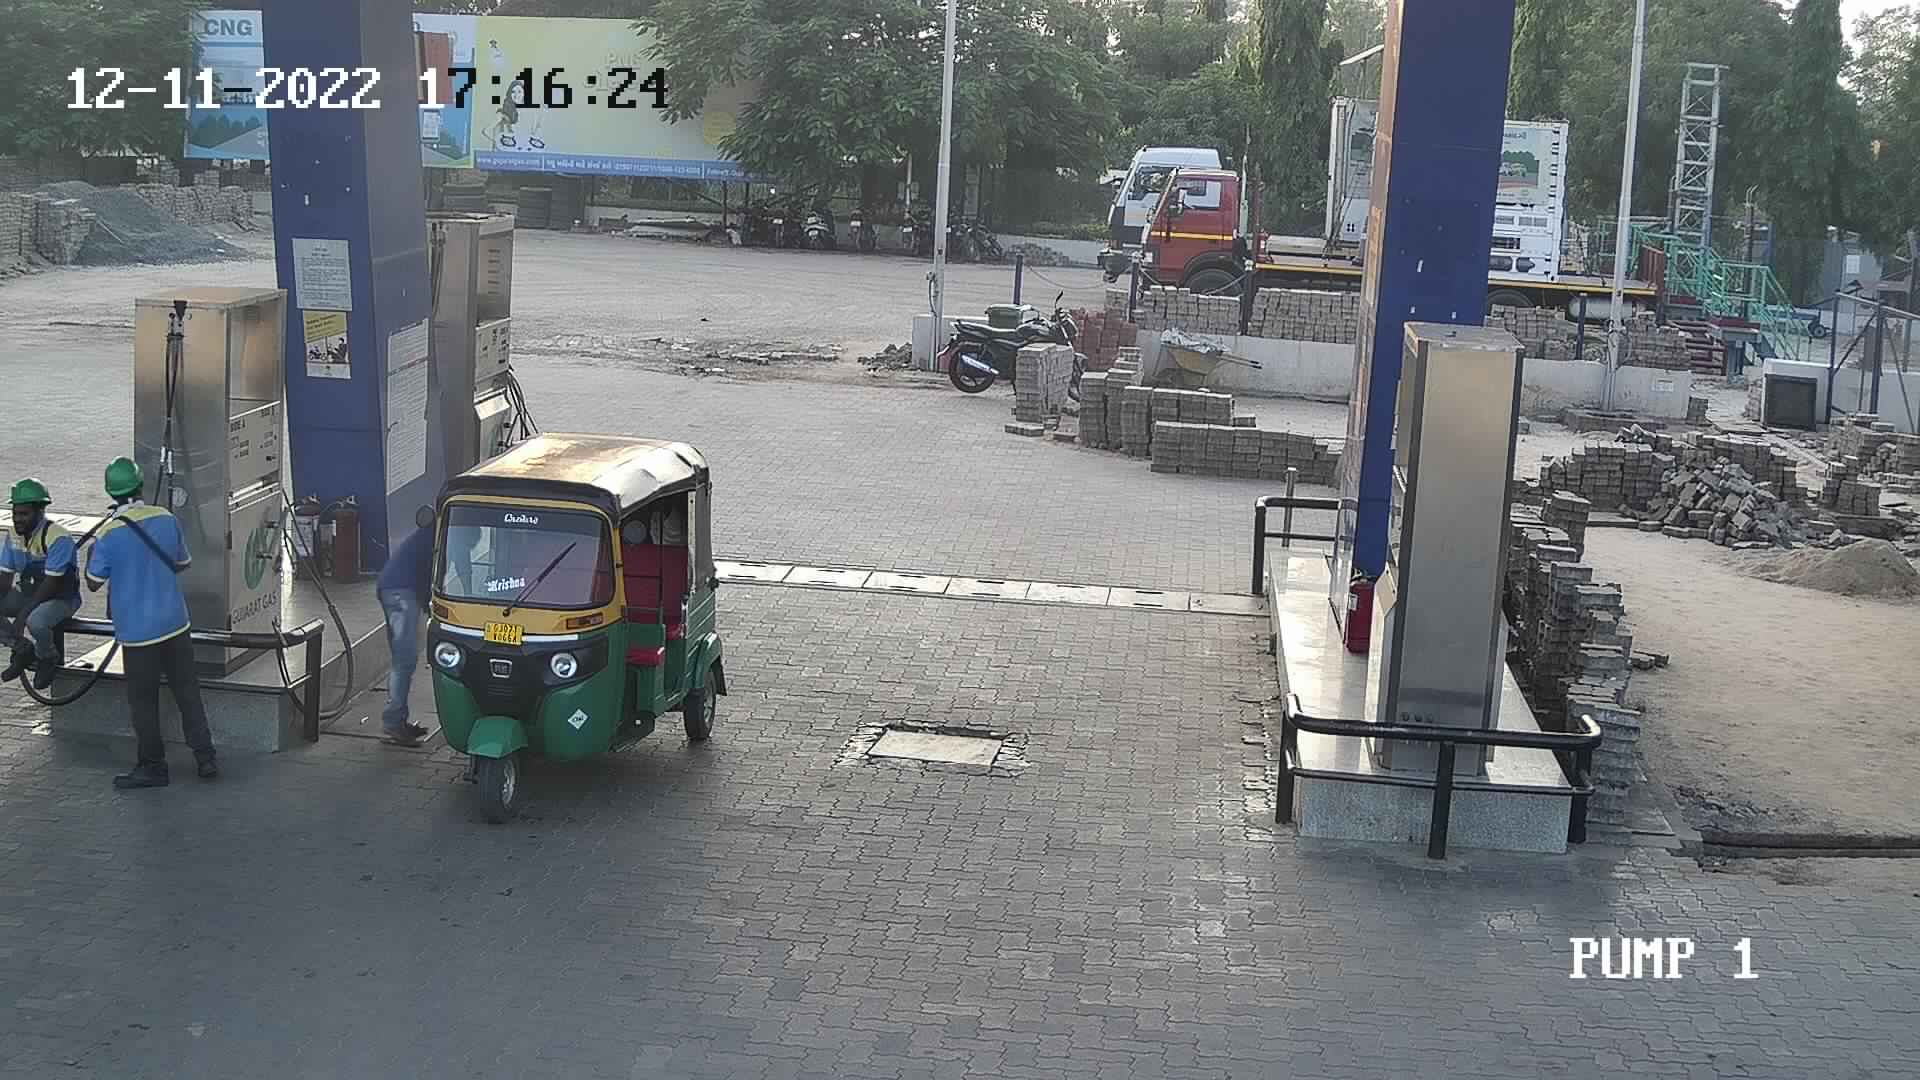Auto: (400, 422, 735, 833)
Bike: (926, 284, 1110, 419), (938, 191, 1009, 269), (840, 186, 889, 262), (885, 177, 928, 260), (760, 182, 804, 248), (796, 187, 843, 247)
HMV: (1095, 83, 1379, 291), (1120, 161, 1382, 335)
Others: (76, 454, 236, 793), (0, 467, 84, 694)
